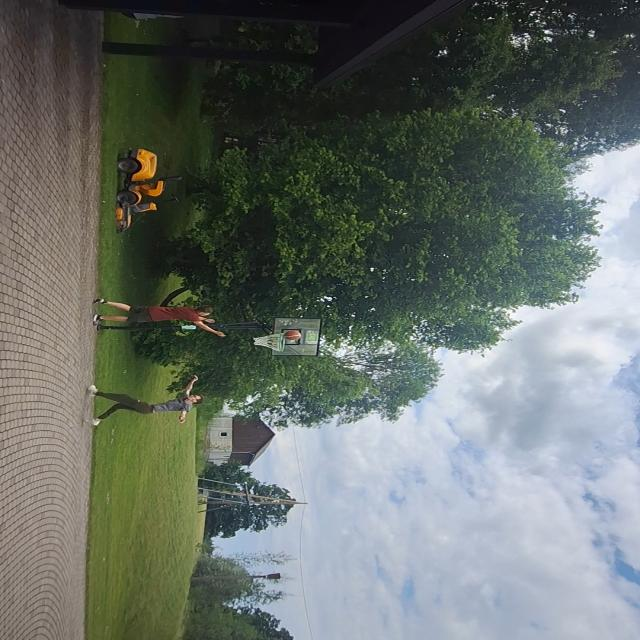ball: (284, 329, 304, 340)
hoop: (248, 332, 288, 352)
player: (86, 374, 208, 428), (90, 298, 230, 338)
